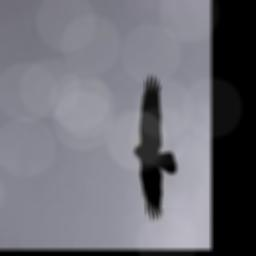Crow: (134, 73, 177, 220)
